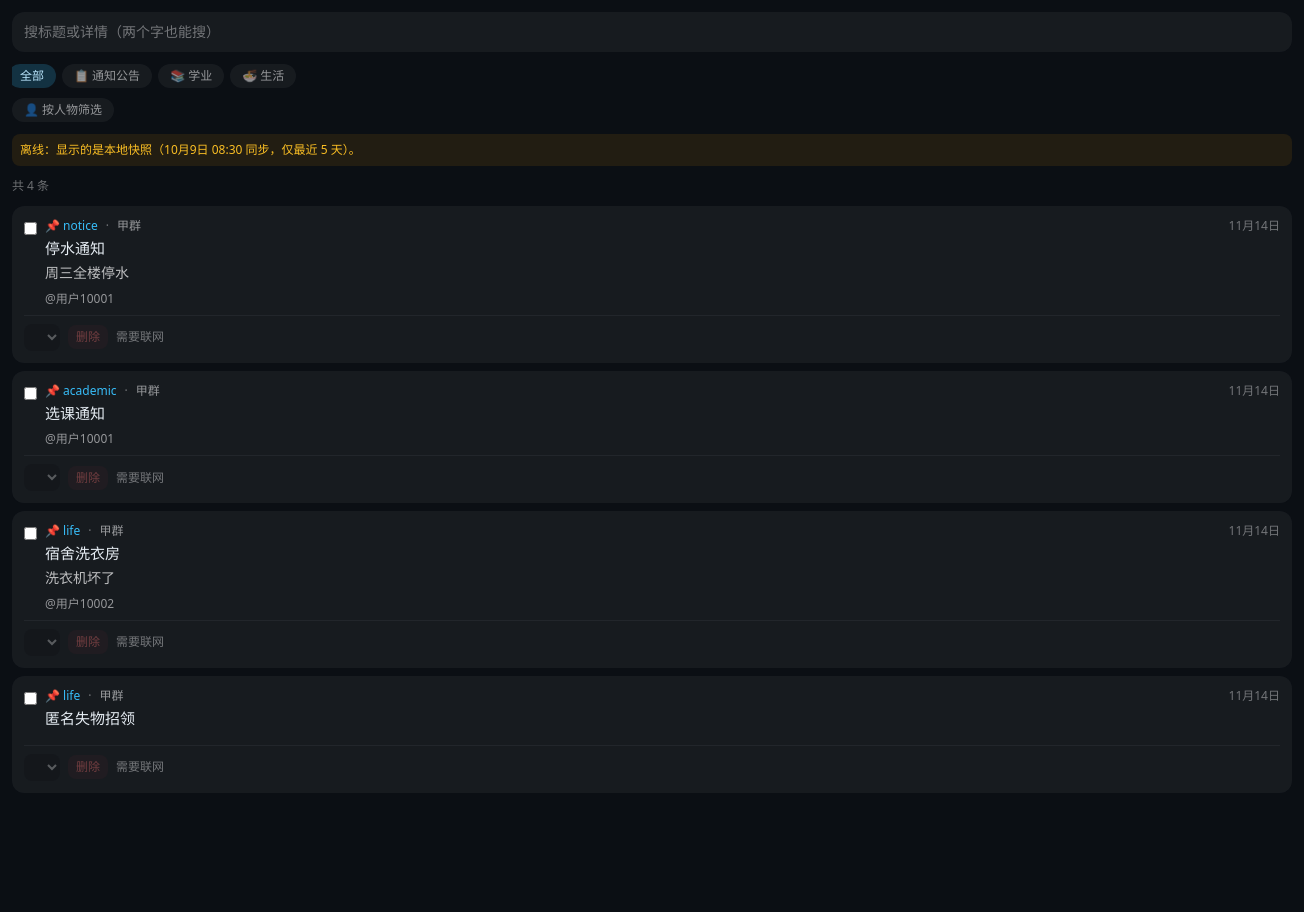
⭐ T6：离线 + 点一个类目 ⇒ 屏幕上**只剩该类目**的条目(本地筛快照)
expect the text "停水通知" is shown: met, box [45,238,105,258]
What coordinates should you click on to do the following:
click the button "🍜 生活"
I would click on:
 (263, 76)
Its box is [230,64,296,88].
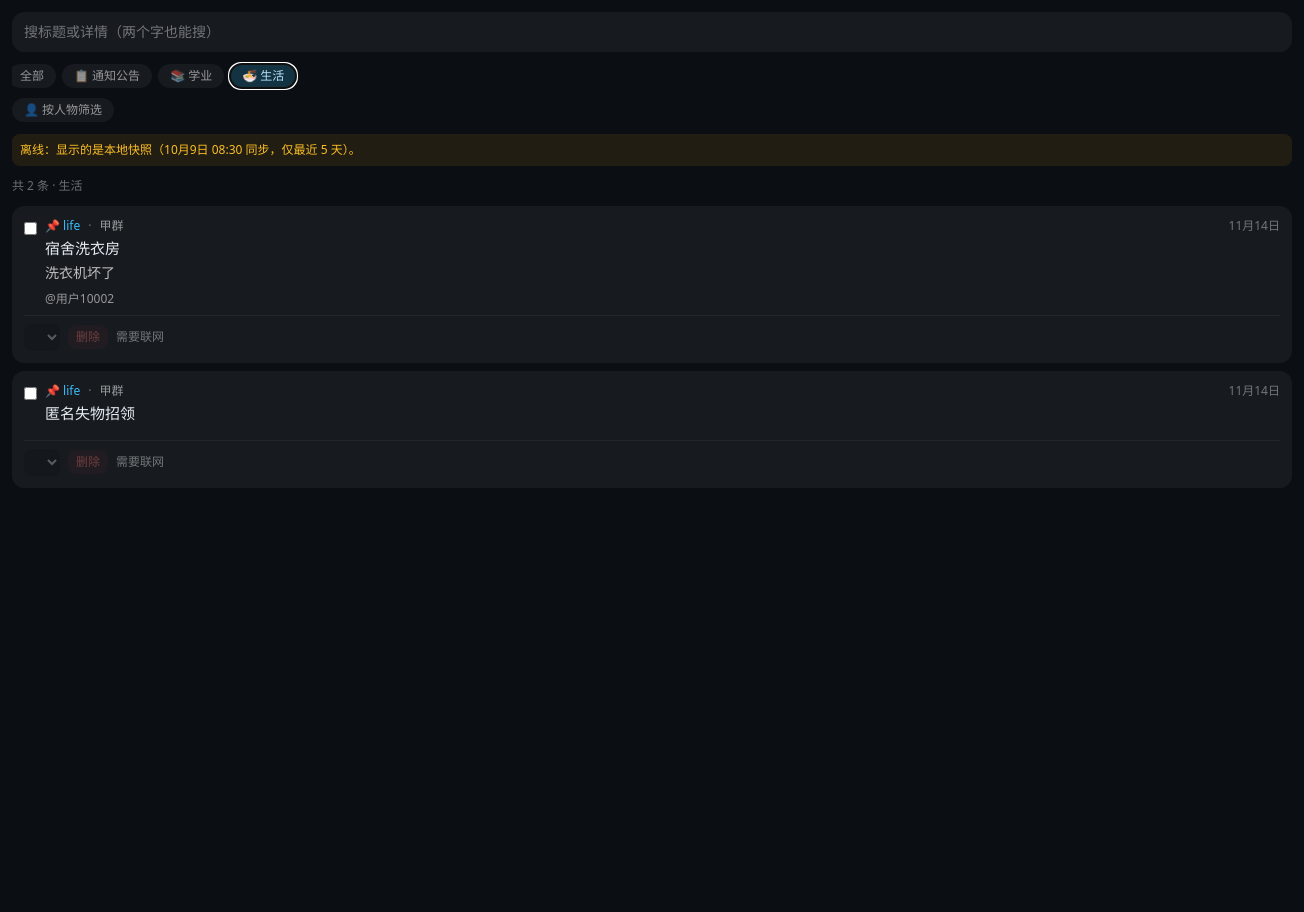
expect the button "停水通知" is gone: met
expect the button "选课通知" is gone: met
expect the text "共 2 条 · 生活" is shown: met, box [12,177,83,194]
